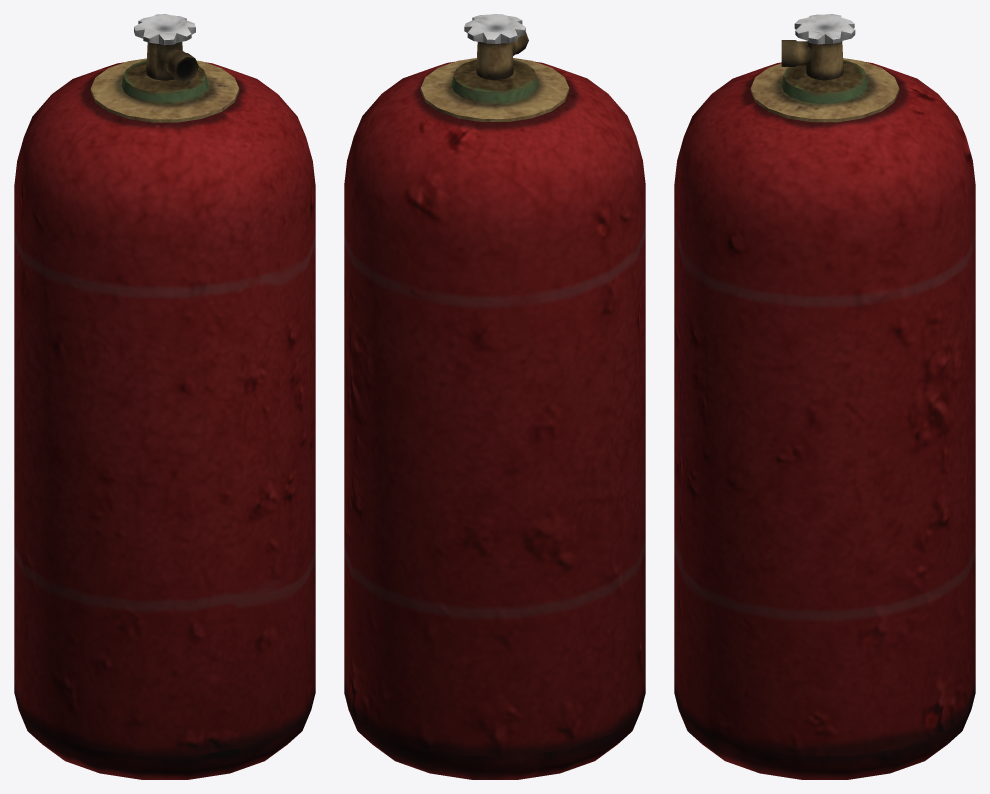
Rendered from prop_gas_cylinder.glb.
The picture shows the model from 3 angles, left to right: view 1: azimuth 30°, elevation 25°; view 2: azimuth 150°, elevation 25°; view 3: azimuth 270°, elevation 25°; orthographic projection.
Parts seen in each view (by area): view 1: prop_gas_cylinder_mesh; view 2: prop_gas_cylinder_mesh; view 3: prop_gas_cylinder_mesh.
Part boxes in pixels (left/top/right/bottom): prop_gas_cylinder_mesh: left=14, top=14, right=315, bottom=779; prop_gas_cylinder_mesh: left=344, top=14, right=645, bottom=779; prop_gas_cylinder_mesh: left=674, top=14, right=975, bottom=779.
Size of the model in its own units: 0.23 by 0.6 by 0.2336.
Materials: 1 (1 with a texture image).
